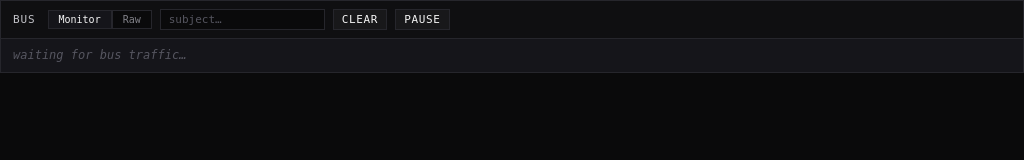
BusPane › Raw falls back to a hex preview for unknown subjects
The image size is (1024, 160).
What coordinates should you click on to do the following:
click the button "Raw"
I would click on:
 (132, 20)
Its box is [112,10,152,29].
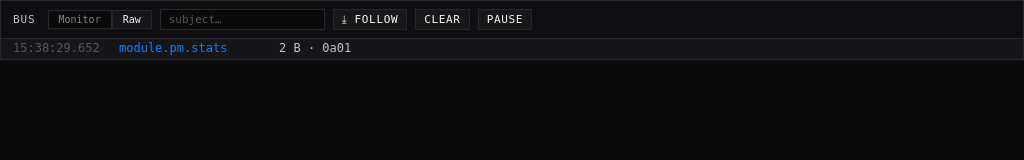
Now the text "2 B · 0a01" is shown, box [279,41,351,55]
